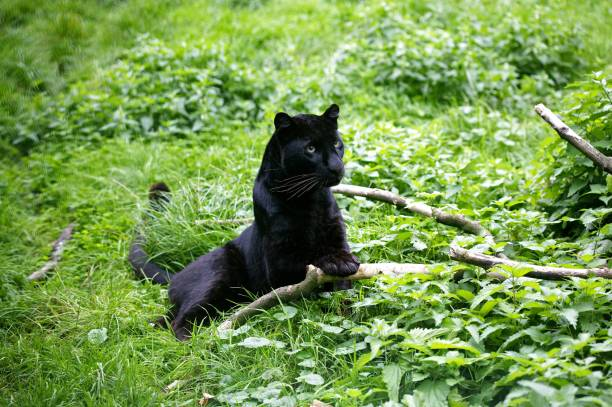panther: (266, 104, 354, 197)
